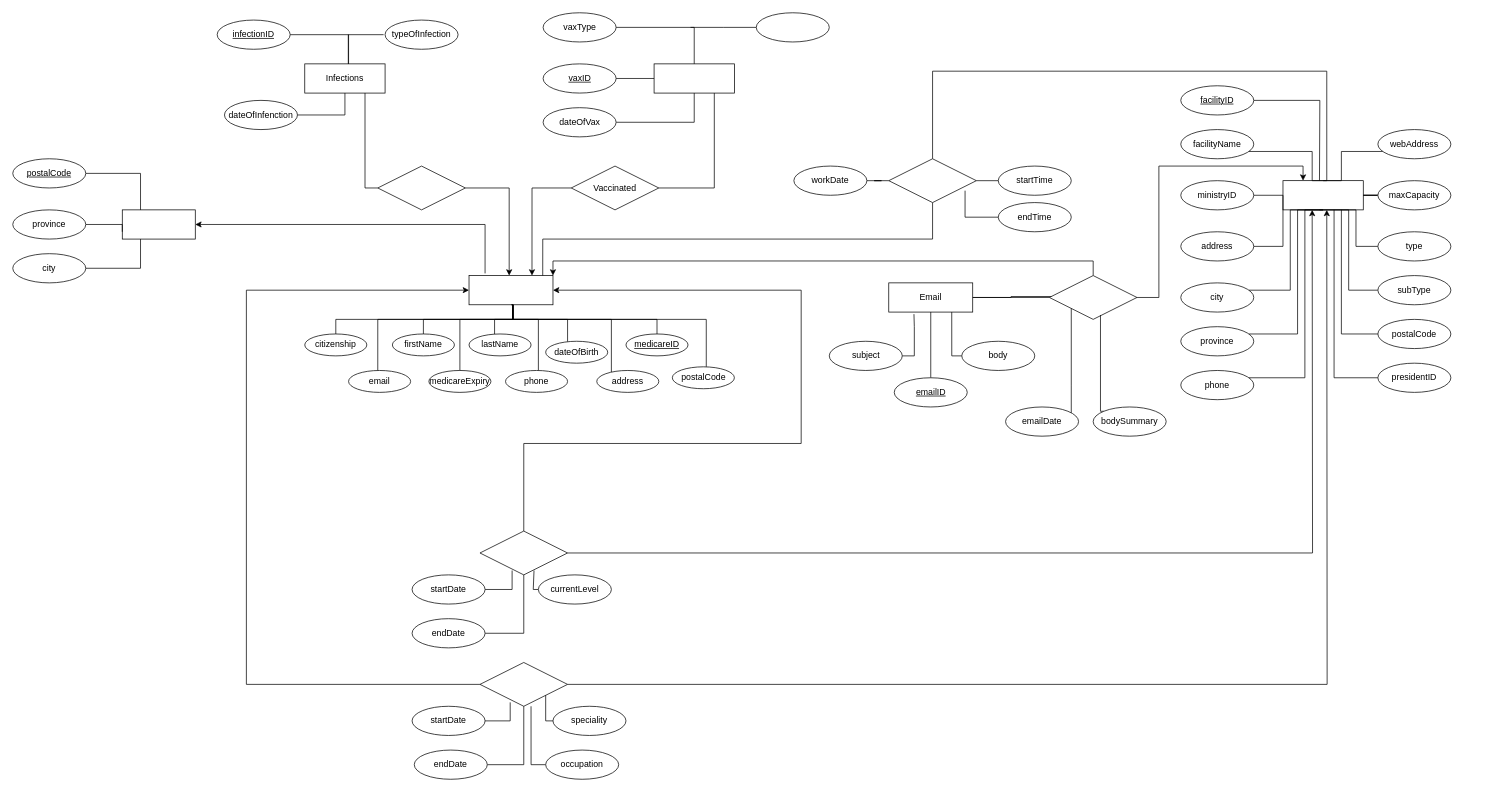
The diagram is 1506 pixels wide and 792 high, and some of its shapes have lost their labels. Each missing label, with the centre of its shape:
"AddressDetails" belongs at pixel 158 224.
"doseNumber" belongs at pixel 792 27.
"EmailLog" belongs at pixel 1093 297.
"Employee" belongs at pixel 523 684.
"Facility" belongs at pixel 1322 195.
"Infected" belongs at pixel 421 187.
"Person" belongs at pixel 510 290.
"Schedule" belongs at pixel 932 180.
"Student" belongs at pixel 523 552.
"Vaccinations" belongs at pixel 693 78.
